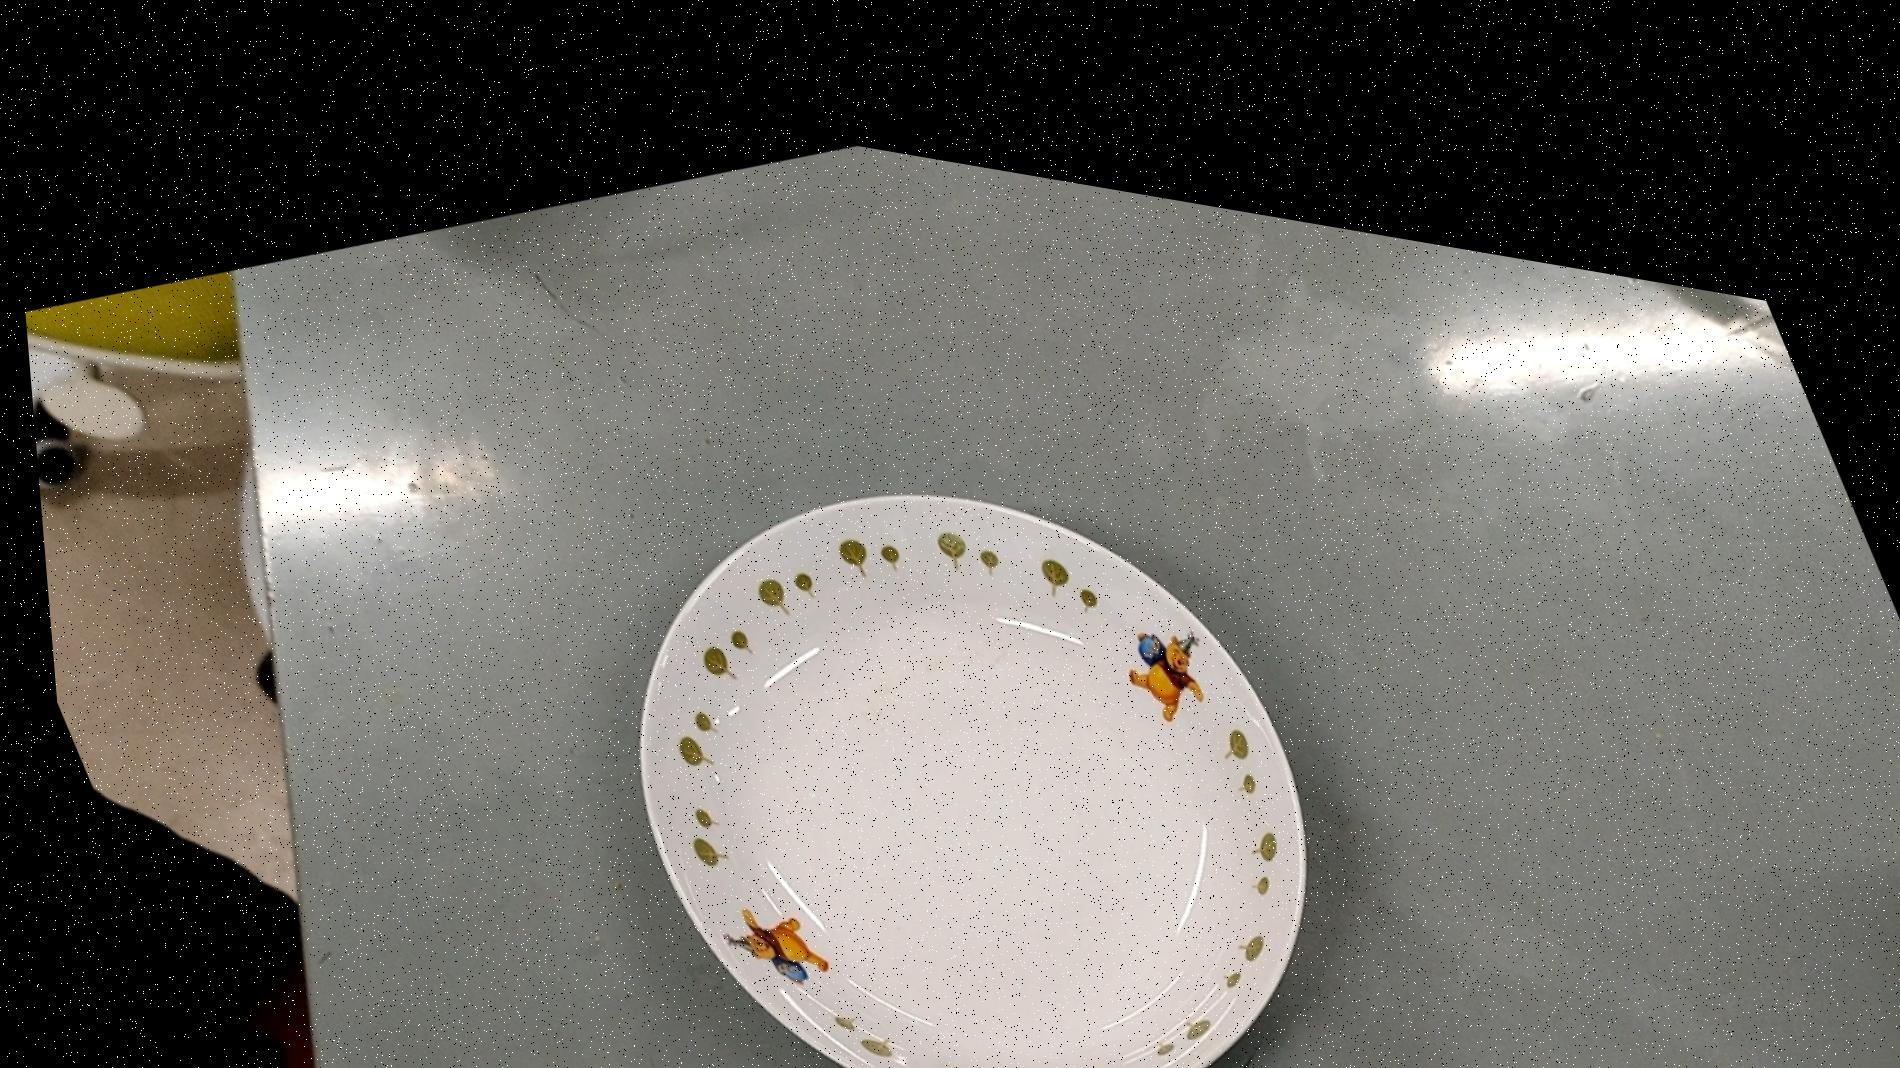plate: (518, 312, 1417, 1068)
